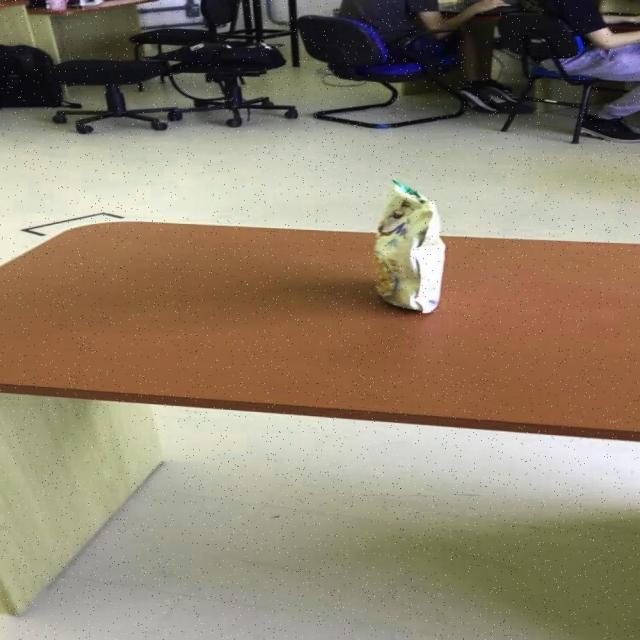CornFlakes: (371, 178, 445, 314)
